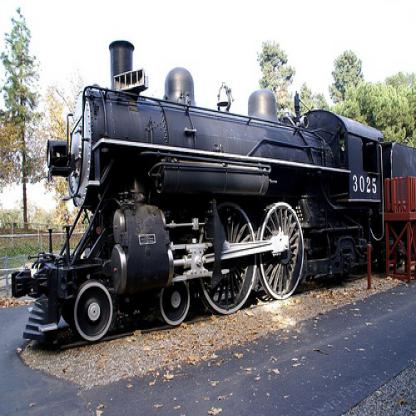train: (11, 40, 415, 351)
